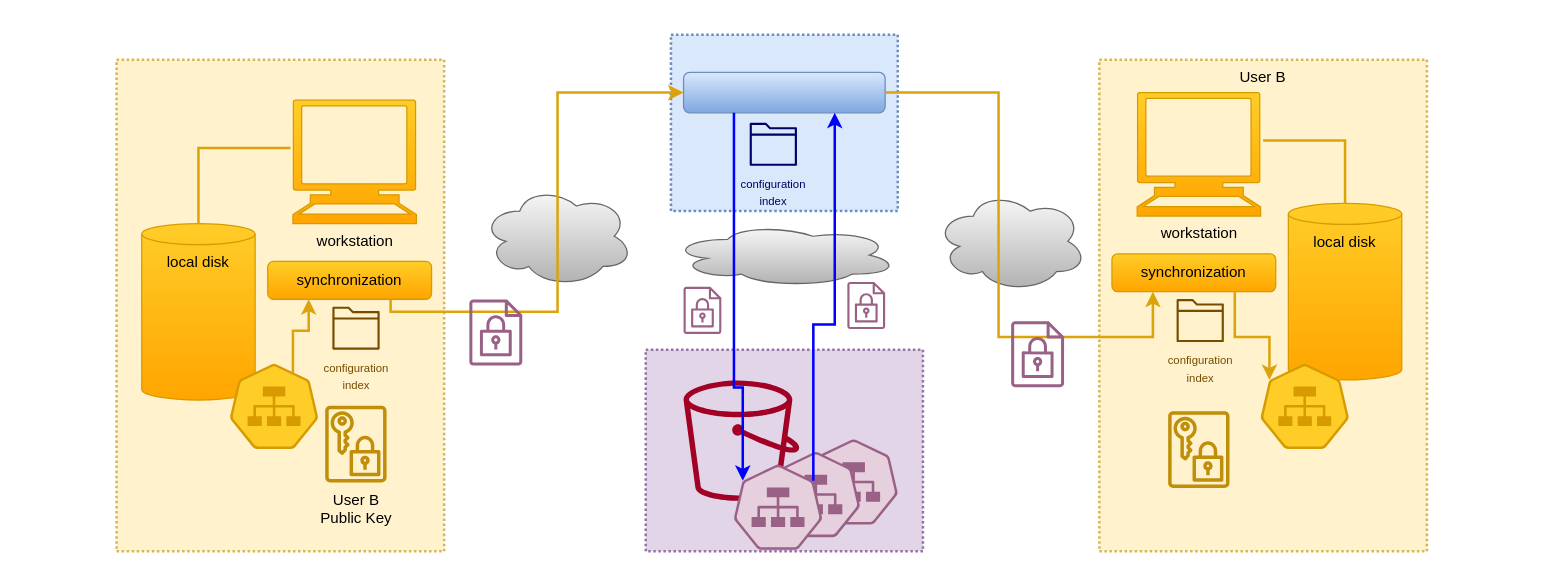
Some shapes in this 1555 by 585 pixel diagram are drawn without their labels. Each missing label, with the box of its shape:
Cabri HTTP Server: (682, 71, 885, 113)
Cloud Storage provider: (644, 348, 924, 552)
HTTP hosting: (669, 33, 898, 212)
User A: (115, 58, 445, 552)
User B Private Key: (1167, 410, 1230, 488)
